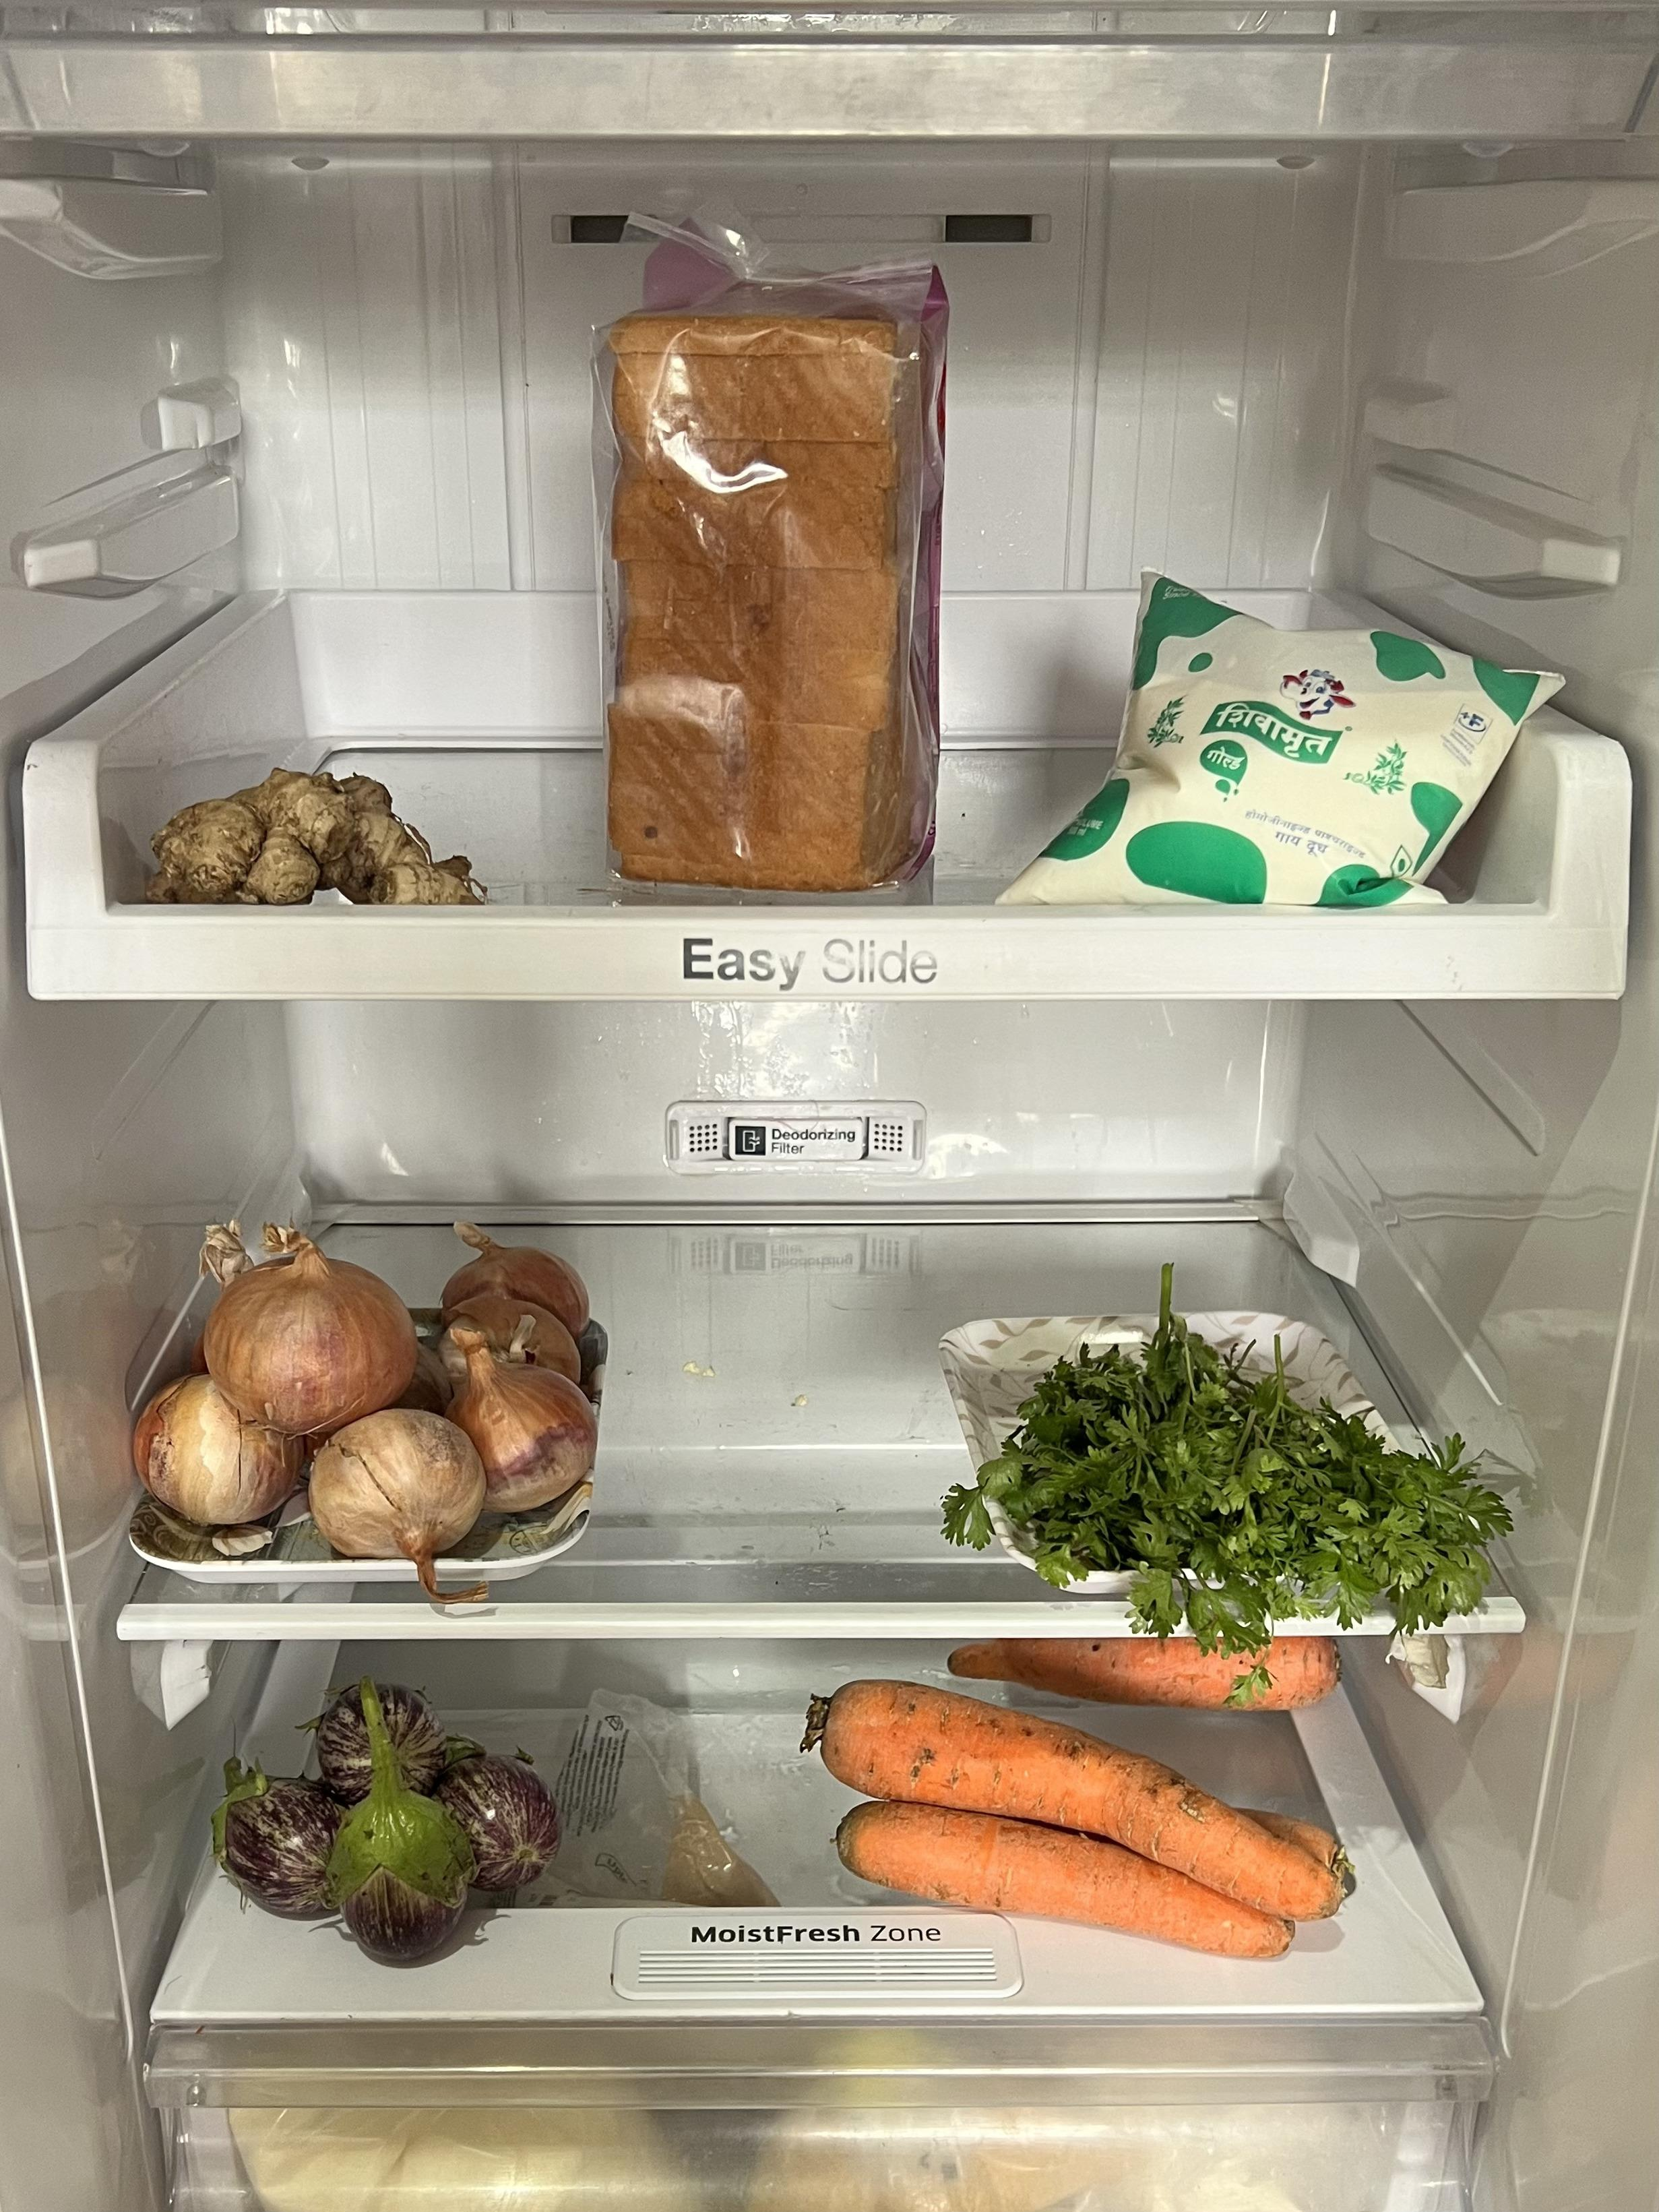bread: (580, 248, 964, 901)
bringal: (211, 1680, 551, 1966)
carrots: (812, 1675, 1337, 1959)
coriander: (969, 1327, 1485, 1635)
ginger: (143, 765, 495, 912)
milk: (1011, 558, 1514, 903)
onion: (117, 1222, 605, 1560)
